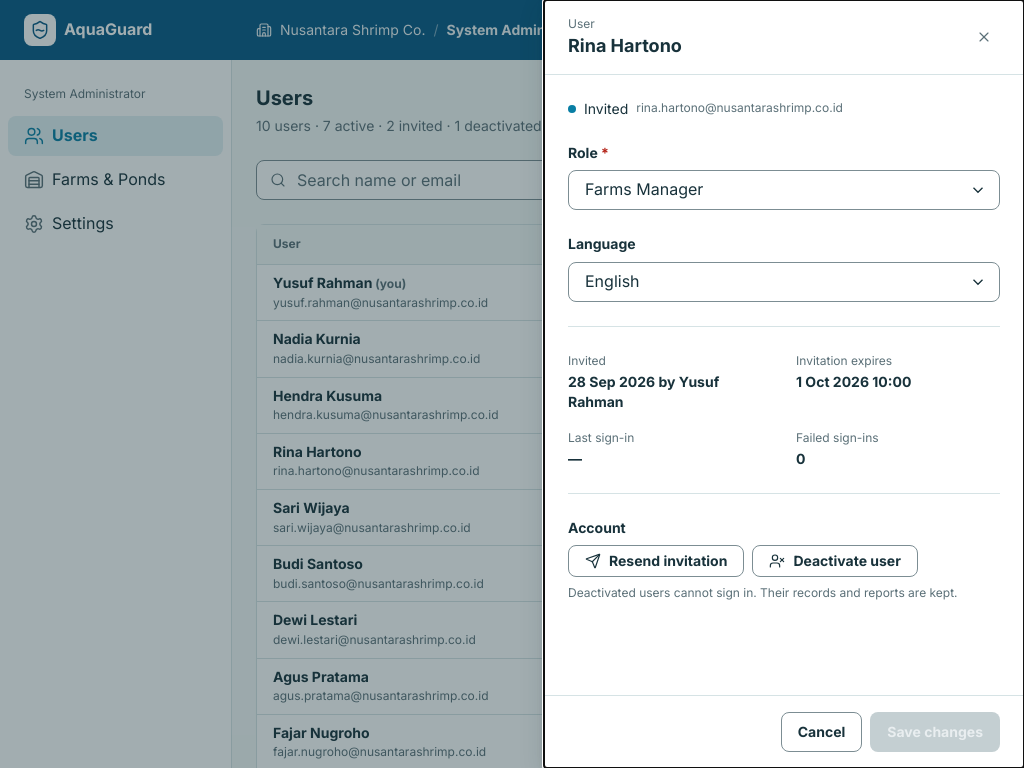
AD-01 Users › resends an invitation
What coordinates should you click on to do the following:
click the button "Resend invitation"
I would click on:
 (656, 561)
Its box is [568, 545, 744, 577].
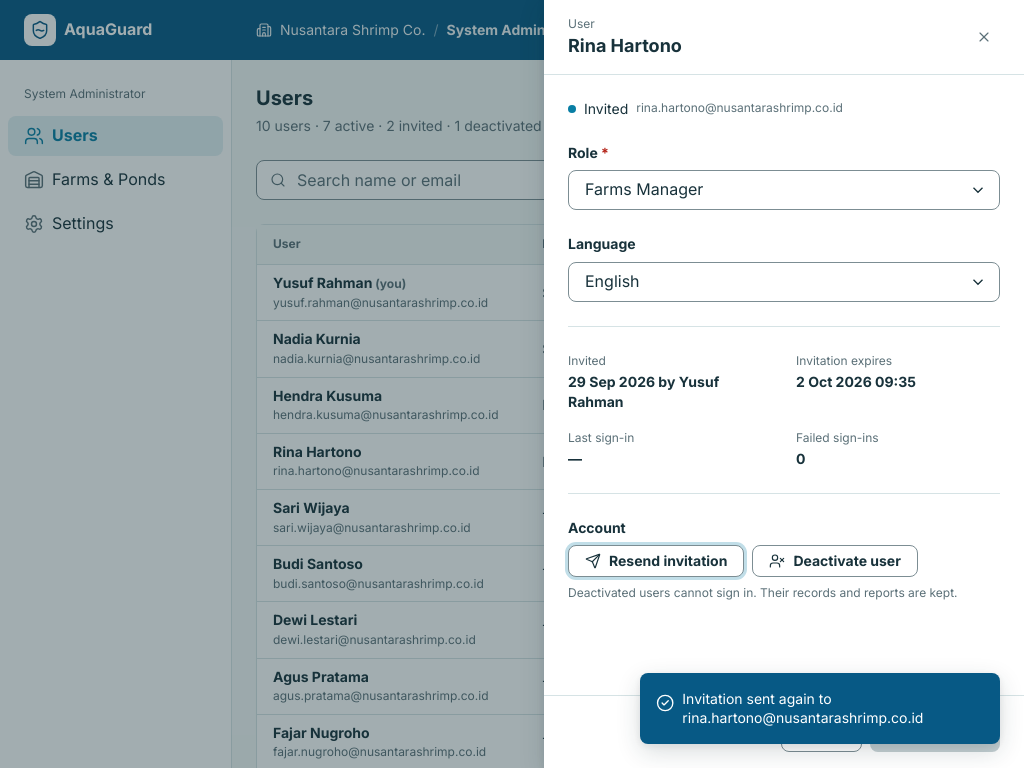
Check: the text "Invitation sent again to rina.hartono@nusantarashrimp.co.id" is shown, box [682, 690, 924, 726]
